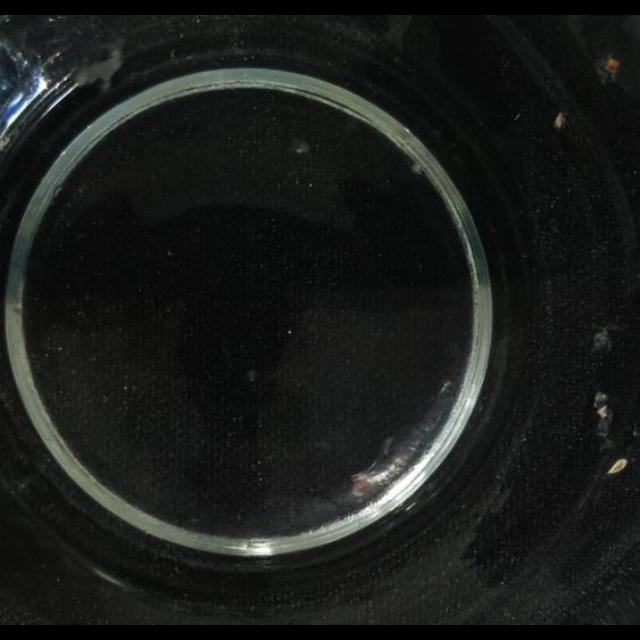Fibre: (586, 320, 622, 358)
Fragment: (586, 385, 630, 445), (596, 59, 618, 85), (352, 474, 374, 498)
microbeads: (598, 458, 636, 479), (552, 110, 572, 130)
